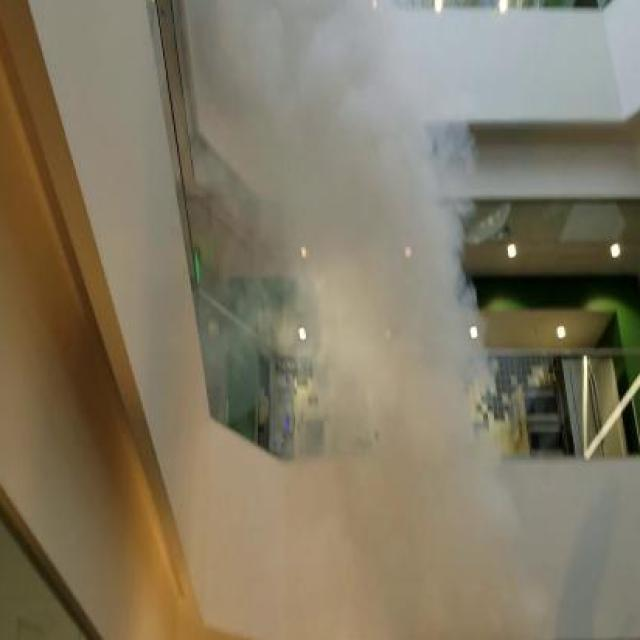fire: (273, 0, 502, 581)
